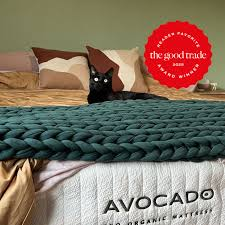bed-matress: (1, 76, 223, 225)
